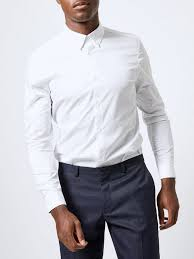F_dress pants: (41, 159, 164, 259)
F_shirt: (18, 17, 181, 200)
